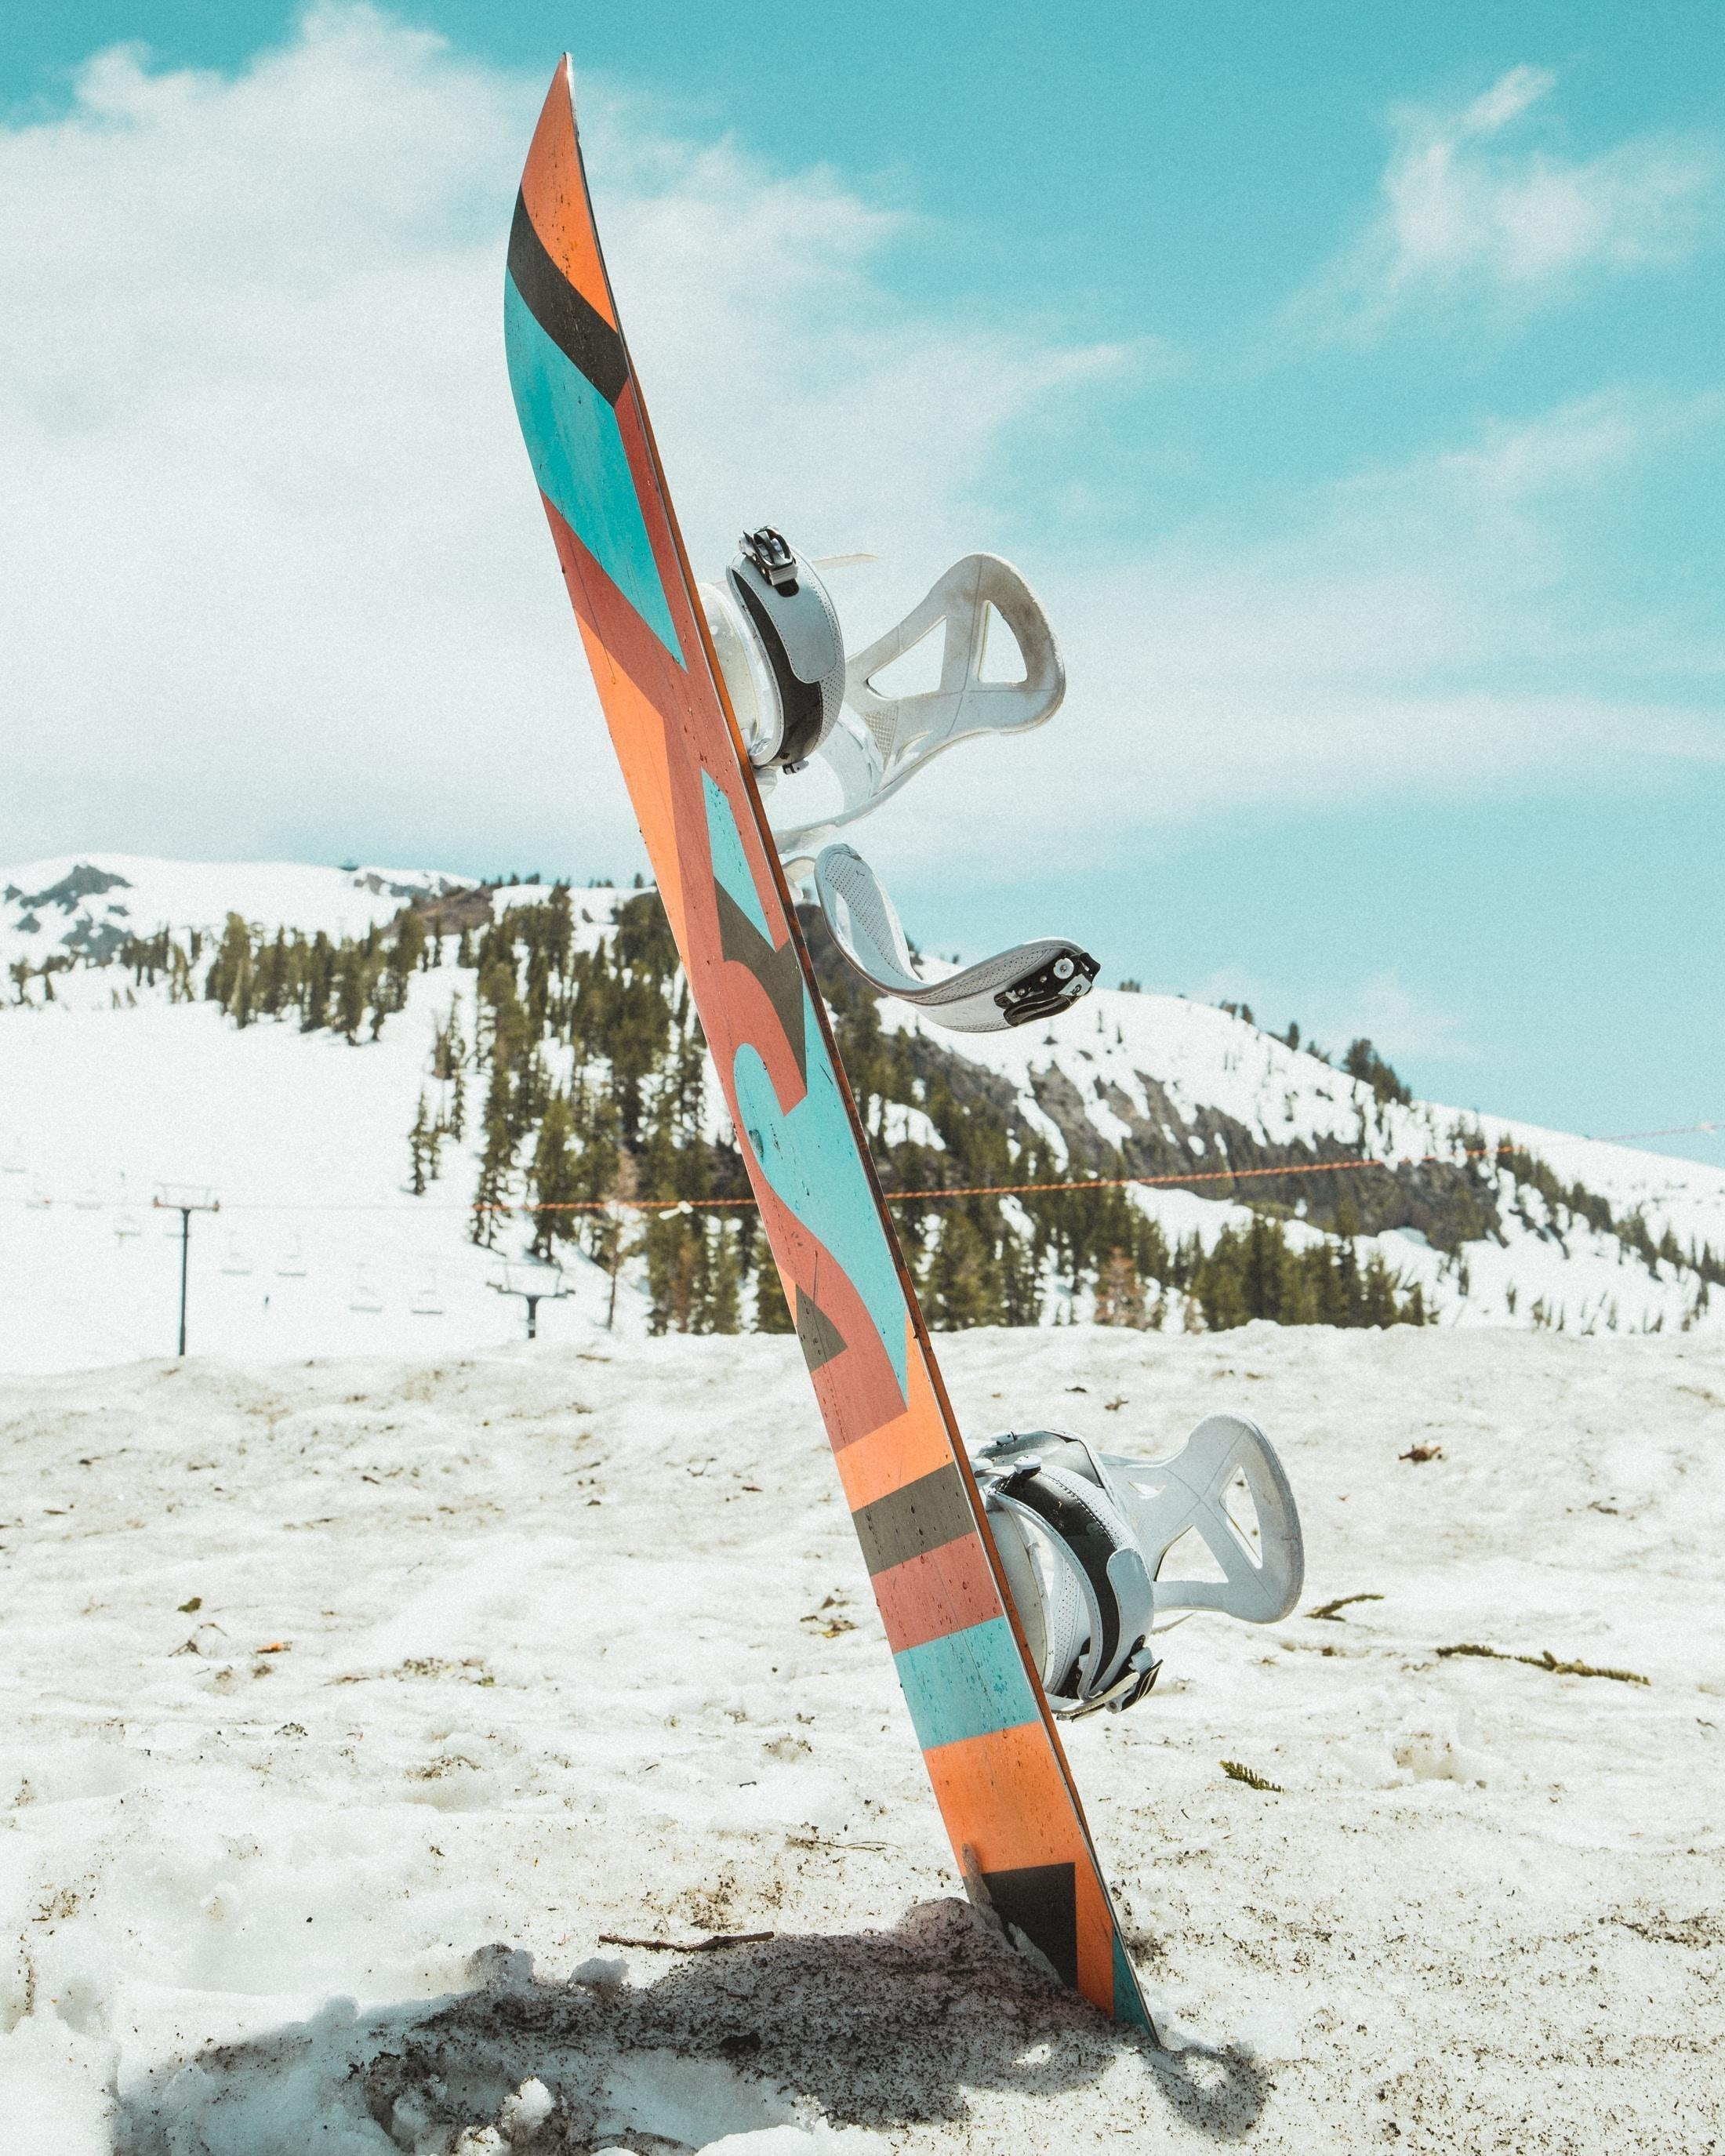Skis: (429, 0, 1352, 2017)
